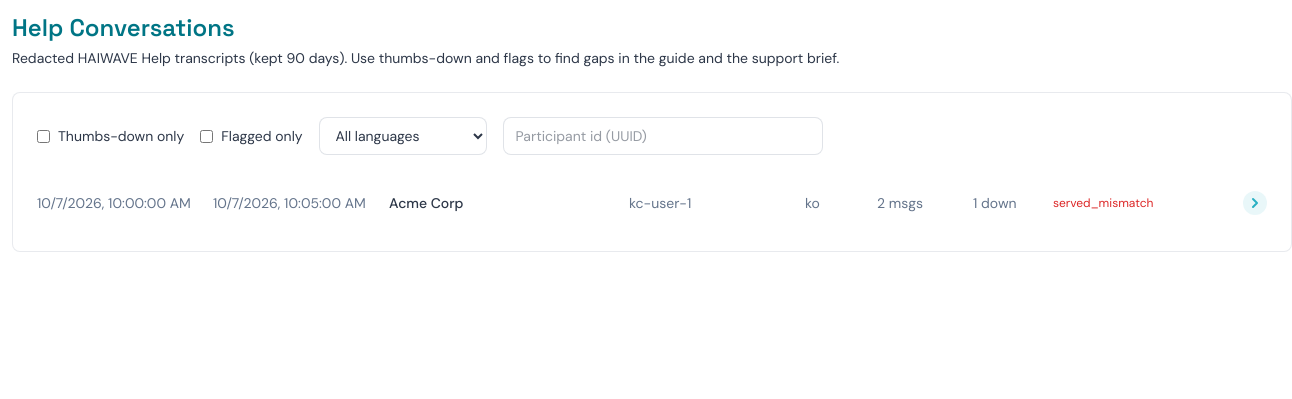
it: AdminHelpPage › feedback with no note shows no quote
Click the button with aria-label "Conversation 0b8a5a52-58b6-4a8e-9a39-9a1d4c7f1f10" at coordinates (652, 203), box [37,179,1267,227]
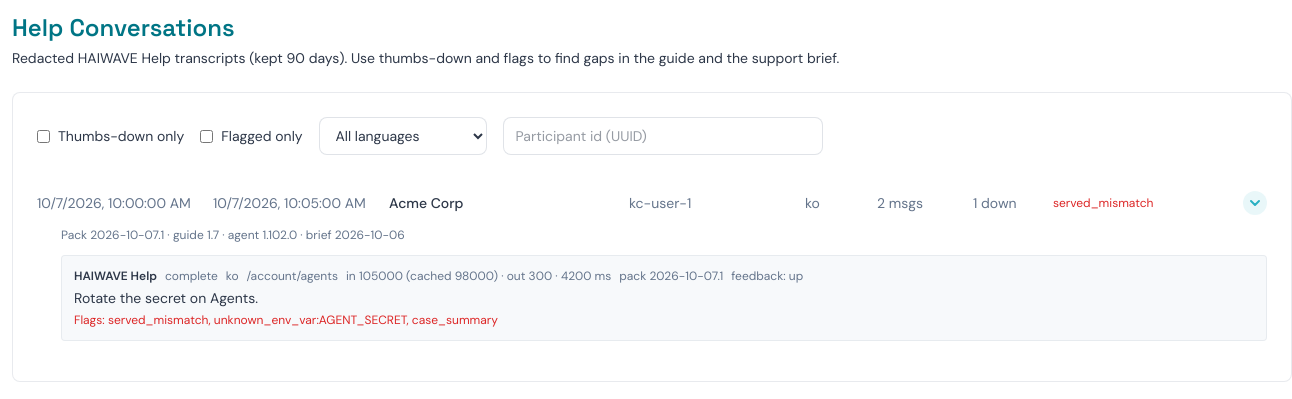
Check: the text "feedback: up" is shown, box [731,268,803,284]
